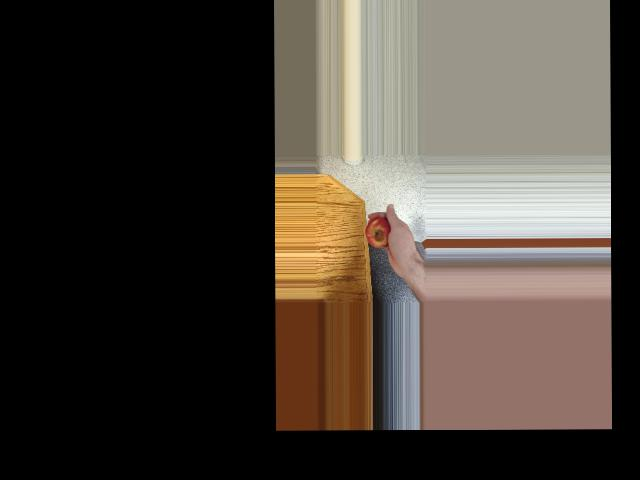apple: (364, 215, 395, 255)
